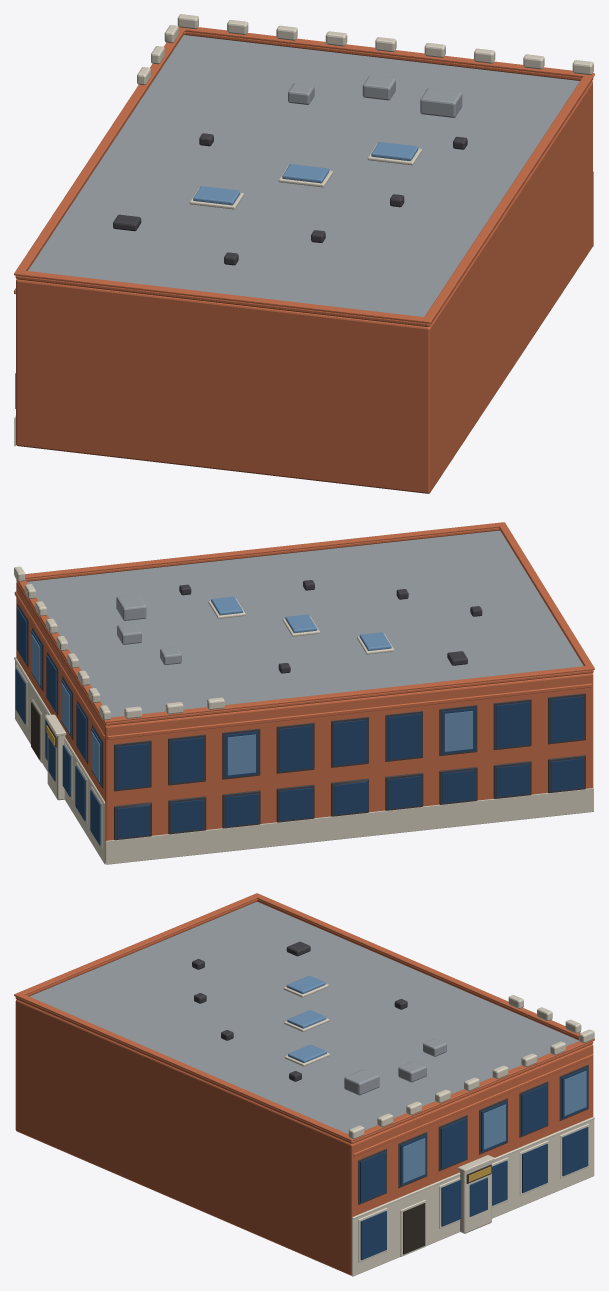
Rendered from 524-second.optimized.glb.
3 renders of one model, top to bottom at view 1: azimuth 30°, elevation 25°; view 2: azimuth 150°, elevation 25°; view 3: azimuth 270°, elevation 25°, orthographic. The views are drawn at different scales.
Parts seen in each view (by area): view 1: body, grp_Toy_brick, grp_Toy_stone, grp_Toy_steel, grp_Toy_glassl, grp_Toy_roofd; view 2: body, grp_Toy_glass, grp_Toy_stone, grp_Toy_brick, grp_Toy_roofd, grp_Toy_glass_Glow, grp_Toy_steel, grp_Toy_glassl, grp_Toy_ink; view 3: body, grp_Toy_stone, grp_Toy_brick, grp_Toy_glass, grp_Toy_roofd, grp_Toy_glass_Glow, grp_Toy_steel, grp_Toy_glassl, grp_Toy_ink.
Boxes of the visible parts, <box> form: body: <box>16,35,592,493</box>; grp_Toy_brick: <box>14,27,594,326</box>; grp_Toy_stone: <box>14,14,593,446</box>; grp_Toy_steel: <box>288,75,462,117</box>; grp_Toy_glassl: <box>193,142,418,205</box>; grp_Toy_roofd: <box>113,133,467,265</box>; body: <box>16,530,593,862</box>; grp_Toy_glass: <box>15,606,583,845</box>; grp_Toy_stone: <box>14,566,593,864</box>; grp_Toy_brick: <box>14,522,594,739</box>; grp_Toy_roofd: <box>17,580,585,840</box>; grp_Toy_glass_Glow: <box>31,634,472,782</box>; grp_Toy_steel: <box>116,594,181,664</box>; grp_Toy_glassl: <box>211,596,391,650</box>; grp_Toy_ink: <box>31,702,56,759</box>; body: <box>15,902,593,1275</box>; grp_Toy_stone: <box>283,984,594,1276</box>; grp_Toy_brick: <box>14,893,594,1156</box>; grp_Toy_glass: <box>360,1068,588,1260</box>; grp_Toy_roofd: <box>192,941,588,1204</box>; grp_Toy_glass_Glow: <box>403,1071,586,1183</box>; grp_Toy_steel: <box>344,1038,446,1095</box>; grp_Toy_glassl: <box>286,975,326,1062</box>; grp_Toy_ink: <box>403,1164,491,1254</box>.
Bounding box in the file's own units: 36 × 9.9 × 35.77.
